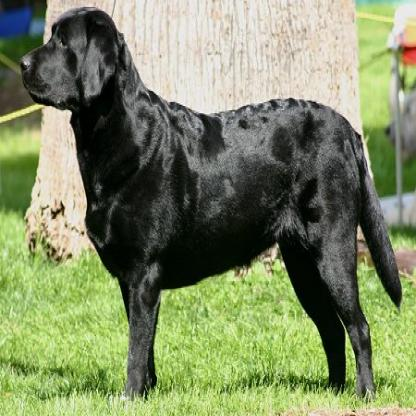dog: (17, 11, 401, 398)
